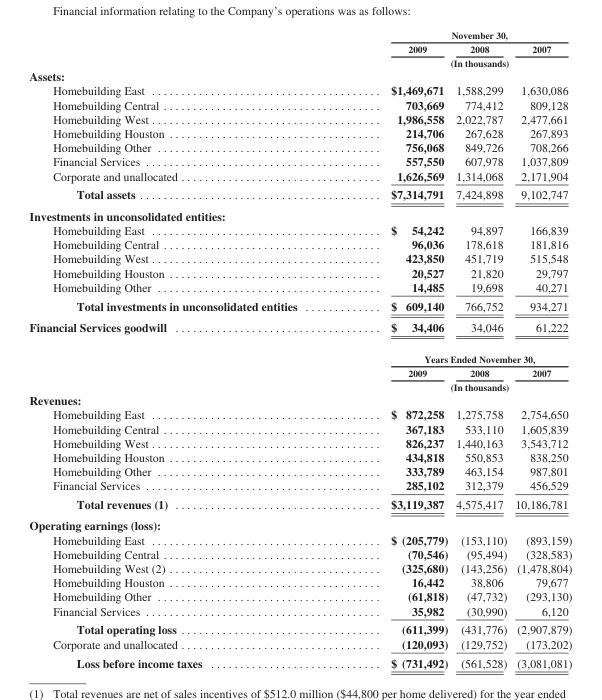table: (28, 28, 571, 669)
table column: (28, 28, 343, 669), (343, 28, 451, 669), (510, 28, 571, 669), (451, 28, 510, 669)
table column header: (28, 28, 571, 68)
table projected row header: (28, 204, 571, 222), (28, 514, 571, 532), (28, 68, 571, 83), (28, 392, 571, 407)
table row: (28, 316, 571, 343), (28, 343, 571, 365), (28, 295, 571, 316), (28, 184, 571, 204), (28, 494, 571, 514), (28, 204, 571, 222), (28, 514, 571, 532), (28, 477, 571, 494), (28, 619, 571, 636), (28, 652, 571, 669), (28, 168, 571, 184), (28, 279, 571, 295), (28, 603, 571, 619), (28, 636, 571, 652), (28, 68, 571, 83), (28, 139, 571, 154), (28, 236, 571, 251), (28, 392, 571, 407), (28, 574, 571, 589), (28, 41, 571, 55), (28, 83, 571, 97), (28, 97, 571, 111), (28, 111, 571, 125), (28, 125, 571, 139), (28, 154, 571, 168), (28, 222, 571, 236), (28, 251, 571, 265), (28, 265, 571, 279), (28, 365, 571, 379), (28, 407, 571, 421), (28, 421, 571, 435), (28, 435, 571, 449), (28, 449, 571, 463), (28, 463, 571, 477), (28, 532, 571, 546), (28, 546, 571, 560), (28, 560, 571, 574), (28, 589, 571, 603), (28, 28, 571, 41), (28, 55, 571, 68), (28, 379, 571, 392)
table spanning cell: (343, 343, 571, 365), (343, 28, 571, 41), (343, 55, 571, 68), (343, 379, 571, 392)
